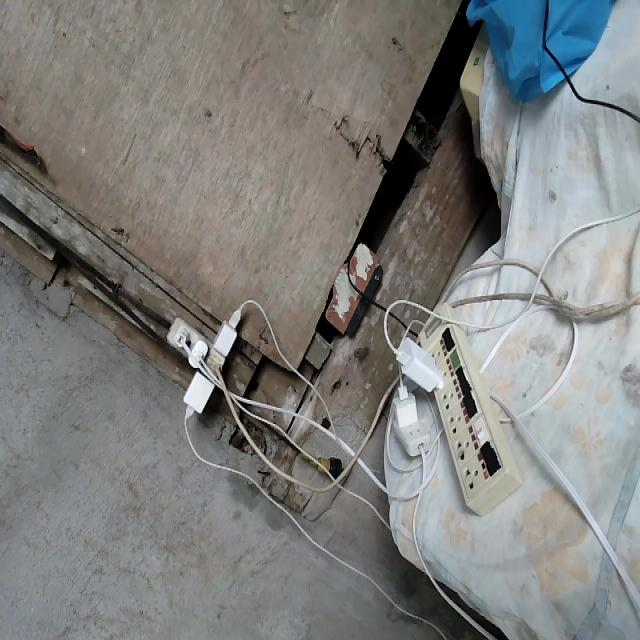-: (166, 299, 250, 421)
